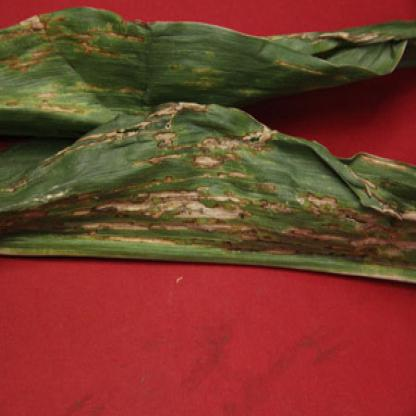Corn leaf blight: (2, 97, 415, 286), (1, 1, 412, 125)
